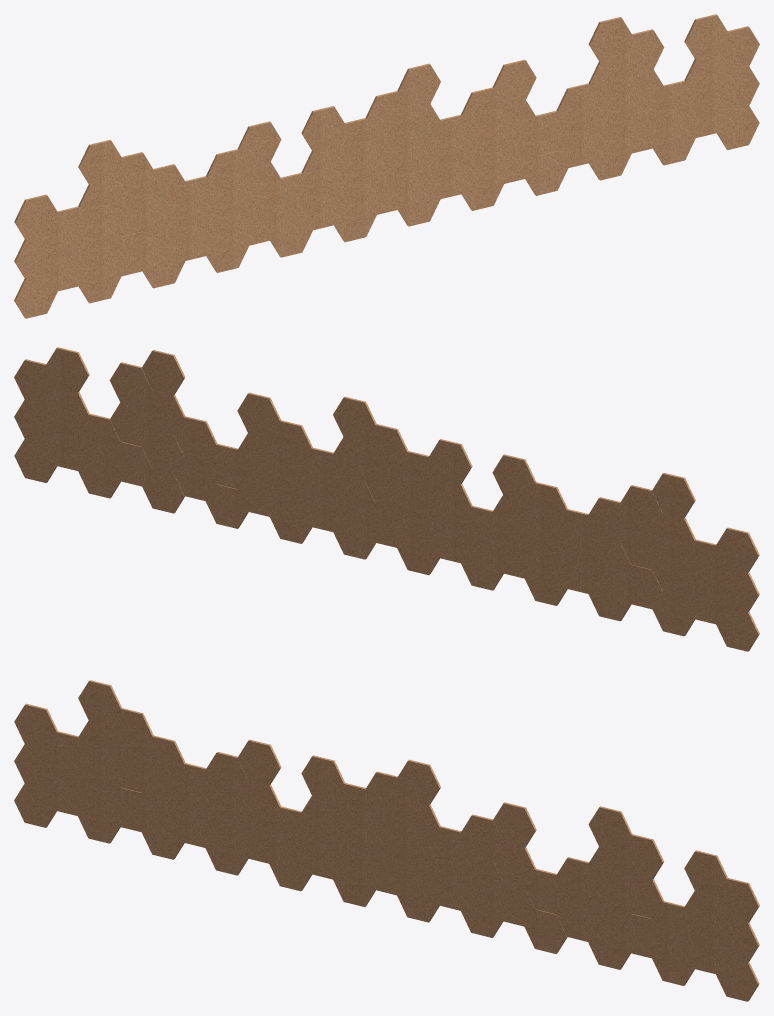
File: prefabxd.obj
The picture shows the model from 3 angles, top to bottom: view 1: azimuth 30°, elevation 25°; view 2: azimuth 150°, elevation 25°; view 3: azimuth 330°, elevation 25°; orthographic projection.
Visible parts, largest first — view 1: 19_19, 28_28, 20_20, 26_26, 21_21, 1_1, 17_17, 12_12, 6_6, 30_30; view 2: 27_27, 30_30, 21_21, 29_29, 1_1, 9_9, 3_3, 15_15; view 3: 19_19, 28_28, 20_20, 26_26, 1_1, 12_12, 17_17, 6_6, 21_21, 30_30.
Part boxes in pixels (x1,y1,x2,y2): 19_19: (47,66,759,303); 28_28: (15,27,759,279); 20_20: (15,15,727,239); 26_26: (16,16,727,237); 21_21: (14,14,717,239); 1_1: (14,274,57,318); 17_17: (207,189,249,233); 12_12: (526,151,567,195); 6_6: (175,216,217,260); 30_30: (14,26,748,278); 27_27: (14,399,726,636); 30_30: (14,359,759,612); 21_21: (46,347,759,572); 29_29: (47,348,758,572); 1_1: (716,607,759,651); 9_9: (206,484,248,528); 3_3: (556,549,598,593); 15_15: (524,522,566,566); 19_19: (46,771,758,1001); 28_28: (14,732,758,934); 20_20: (14,681,726,895); 26_26: (15,683,725,893); 1_1: (14,783,56,827); 12_12: (524,909,566,953); 17_17: (205,792,247,835); 6_6: (173,803,215,847); 21_21: (25,680,727,879); 30_30: (57,731,759,929).
Bounding box in the file's own units: 342 × 70.1 × 1.1.
4 materials, 4 textured.
